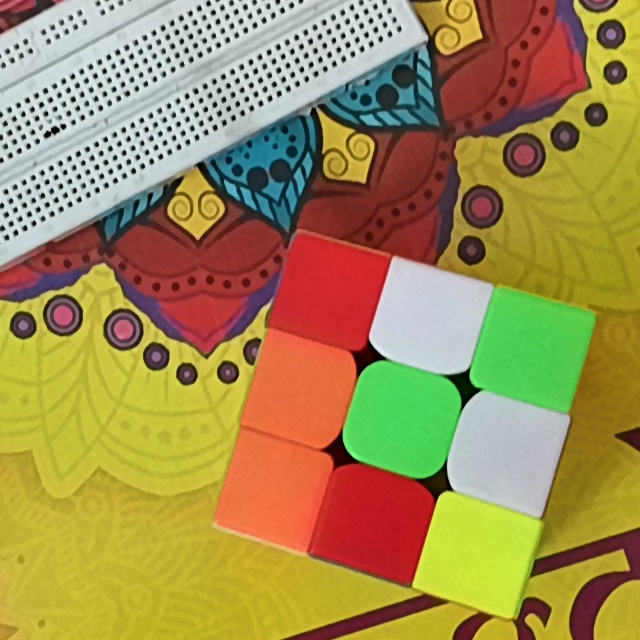tile: (491, 307, 574, 389), (467, 410, 551, 489), (436, 516, 517, 594), (332, 484, 417, 558), (359, 383, 442, 458), (387, 284, 470, 357), (233, 450, 313, 525), (262, 350, 338, 428), (291, 252, 366, 330)
